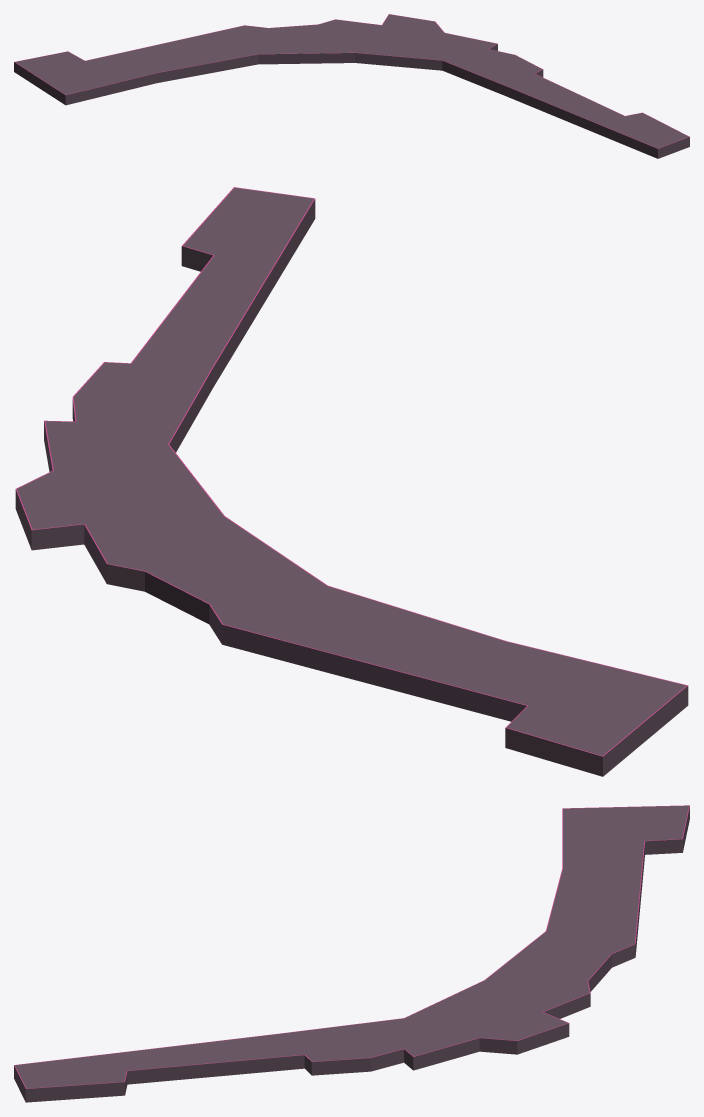
The model's file is way-641119429.glb.
3 views of the same model, one above another, from view 1: azimuth 30°, elevation 25°; view 2: azimuth 150°, elevation 25°; view 3: azimuth 270°, elevation 25° (orthographic). The views are drawn at different scales.
Parts seen in each view (by area): view 1: way-641119429; view 2: way-641119429; view 3: way-641119429.
Part boxes in pixels (x1,y1,x2,y2): way-641119429: [14, 14, 689, 158]; way-641119429: [15, 187, 688, 776]; way-641119429: [14, 805, 689, 1102].
Size of the model in its own units: 135 by 3 by 135.
